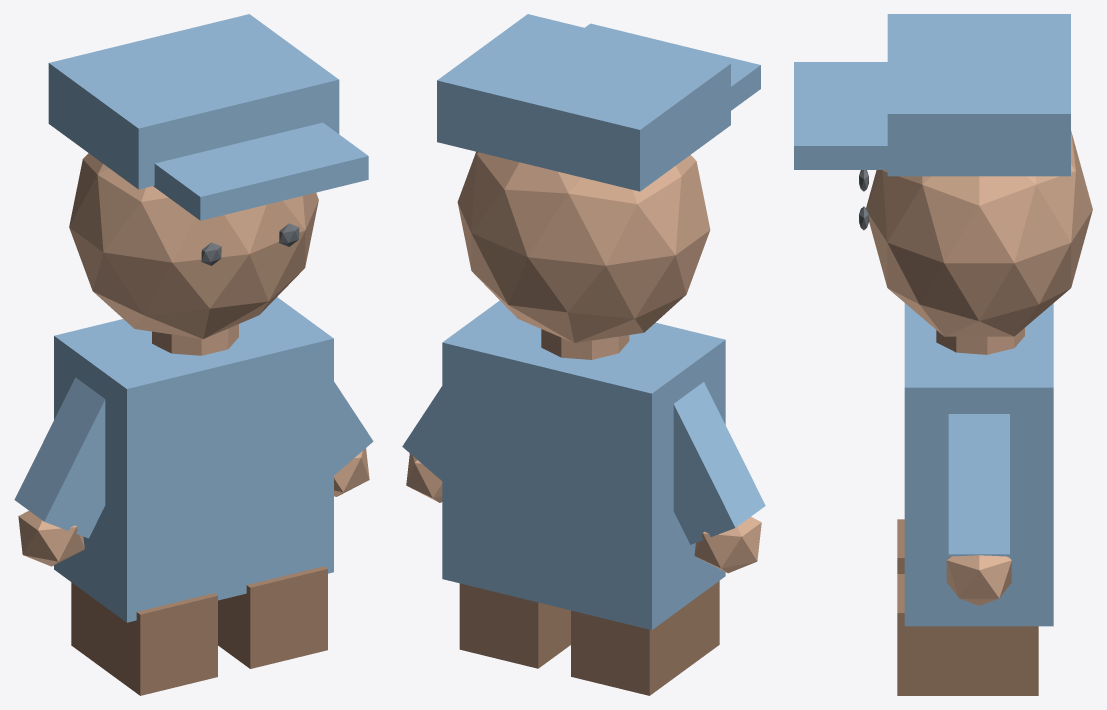
Rendered from guest_02.glb.
The picture shows the model from 3 angles, left to right: view 1: azimuth 30°, elevation 25°; view 2: azimuth 150°, elevation 25°; view 3: azimuth 270°, elevation 25°; orthographic projection. The views are drawn at different scales.
Parts seen in each view (by area): view 1: short overalls.001, merchant cap, head.001, cap visor, boot.002, arm.002, boot.003, hand.002, arm.003, round neck.001, hand.003; view 2: short overalls.001, merchant cap, head.001, boot.002, arm.002, boot.003, hand.002, cap visor, arm.003, round neck.001, hand.003; view 3: short overalls.001, head.001, merchant cap, boot.003, cap visor, arm.003, hand.003, round neck.001.
Boxes of the visible parts, x1,y1,x2,y2 form: short overalls.001: (54,297,333,622); merchant cap: (48,14,339,189); head.001: (69,153,318,339); cap visor: (153,122,368,220); boot.002: (71,582,217,695); arm.002: (14,377,105,538); boot.003: (218,566,327,668); hand.002: (18,511,84,566); arm.003: (334,382,373,475); round neck.001: (152,324,238,355); hand.003: (334,448,369,496); short overalls.001: (442,300,725,629); merchant cap: (437,14,730,191); head.001: (457,151,710,342); boot.002: (571,581,719,695); arm.002: (673,382,765,544); boot.003: (459,583,570,668); hand.002: (694,517,761,573); cap visor: (585,23,760,110); arm.003: (402,386,442,480); round neck.001: (541,329,629,359); hand.003: (406,453,442,502); short overalls.001: (904,303,1053,626); head.001: (866,131,1092,336); merchant cap: (887,14,1070,176); boot.003: (897,574,1038,695); cap visor: (794,62,887,169); arm.003: (948,414,1009,557); hand.003: (946,555,1011,605); round neck.001: (936,328,1024,354).
Size of the model in its own units: 1.06 by 1.69 by 0.7825.
